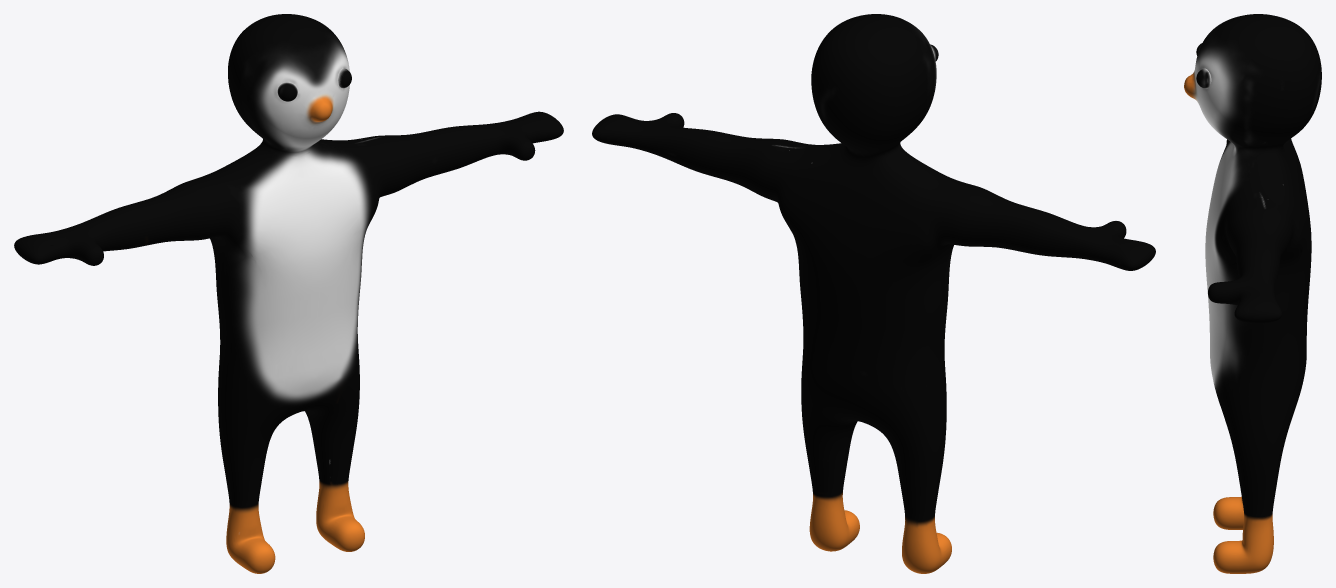
Rendered from character.v6.fbx.
3 views of the same model, side by side, from view 1: azimuth 30°, elevation 25°; view 2: azimuth 150°, elevation 25°; view 3: azimuth 270°, elevation 25° (orthographic). The views are drawn at different scales.
Parts seen in each view (by area): view 1: Sphere; view 2: Sphere; view 3: Sphere.
Boxes of the visible parts, left/top/right/bottom form: Sphere: left=14, top=14, right=563, bottom=573; Sphere: left=592, top=14, right=1155, bottom=573; Sphere: left=1184, top=14, right=1321, bottom=573.
Bounding box in the file's own units: 597 × 563 × 133.
1 material, 1 textured.
